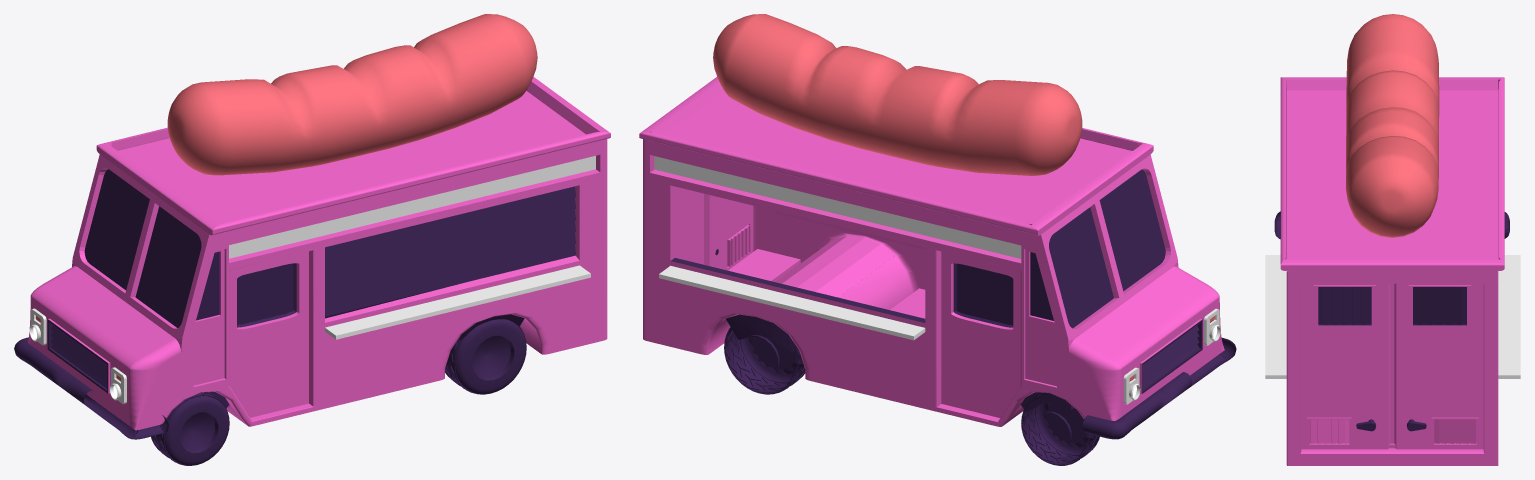
The model's file is truck.glb.
3 renders of one model, left to right at view 1: azimuth 30°, elevation 25°; view 2: azimuth 150°, elevation 25°; view 3: azimuth 270°, elevation 25°, orthographic. The views are drawn at different scales.
Visible parts, largest first — view 1: TRUCK, pCylinder1, TIRES, SERVING COUNTER, BUMPER, HEADLIGHTS; view 2: TRUCK, pCylinder1, TIRES, SERVING COUNTER, BUMPER, HEADLIGHTS; view 3: TRUCK, pCylinder1, SERVING COUNTER, HANDLES, BUMPER.
Boxes of the visible parts, x1,y1,x2,y2 form: TRUCK: (28, 77, 610, 430); pCylinder1: (167, 14, 537, 175); TIRES: (151, 319, 526, 465); SERVING COUNTER: (325, 265, 590, 339); BUMPER: (14, 337, 168, 439); HEADLIGHTS: (29, 308, 126, 404); TRUCK: (639, 77, 1224, 426); pCylinder1: (713, 14, 1082, 175); TIRES: (724, 322, 1099, 465); SERVING COUNTER: (659, 265, 925, 340); BUMPER: (1082, 337, 1236, 439); HEADLIGHTS: (1123, 308, 1220, 404); TRUCK: (1280, 77, 1504, 465); pCylinder1: (1346, 14, 1439, 237); SERVING COUNTER: (1265, 255, 1520, 378); HANDLES: (1356, 419, 1426, 431); BUMPER: (1274, 211, 1509, 239).
Size of the model in its own units: 3.04 by 1.96 by 1.43.
